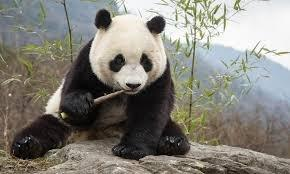bear: (13, 9, 192, 160)
